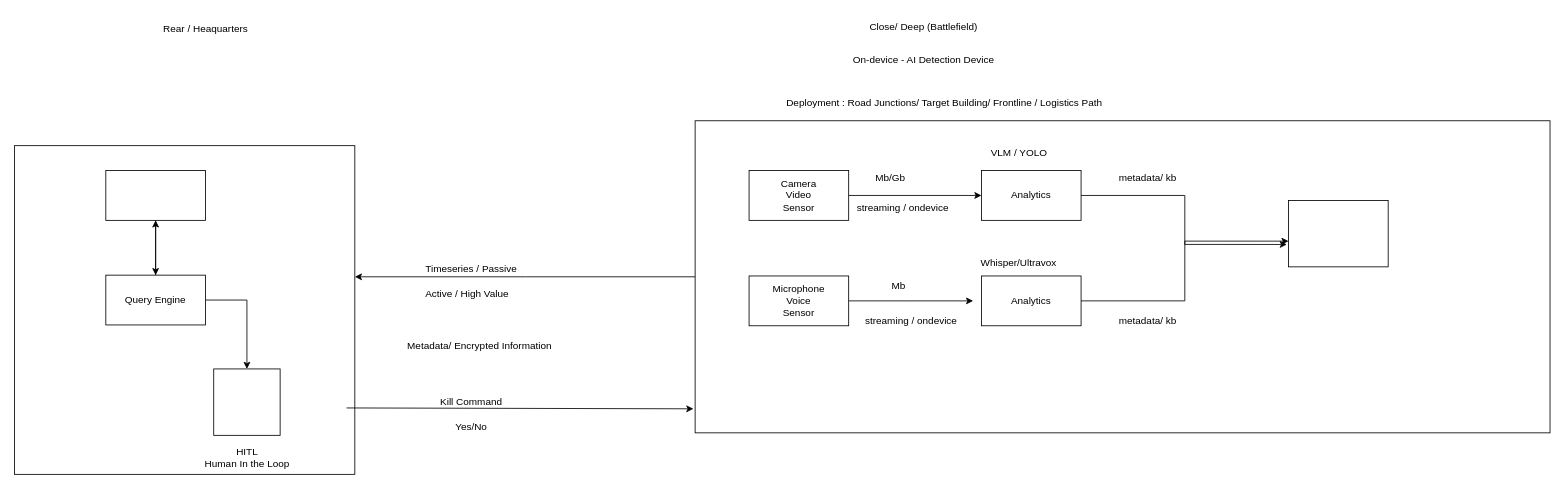
The diagram is 1565 pixels wide and 489 high, and some of its shapes have lost their labels. The shapes that lost their labels are listed below. From the top down, each one's centre as x and y in pixels, then its label:
(x=155, y=195): Analytics Engine
(x=1338, y=233): Decision Engine LLM
(x=246, y=401): Yes/No Kill Command Screen
